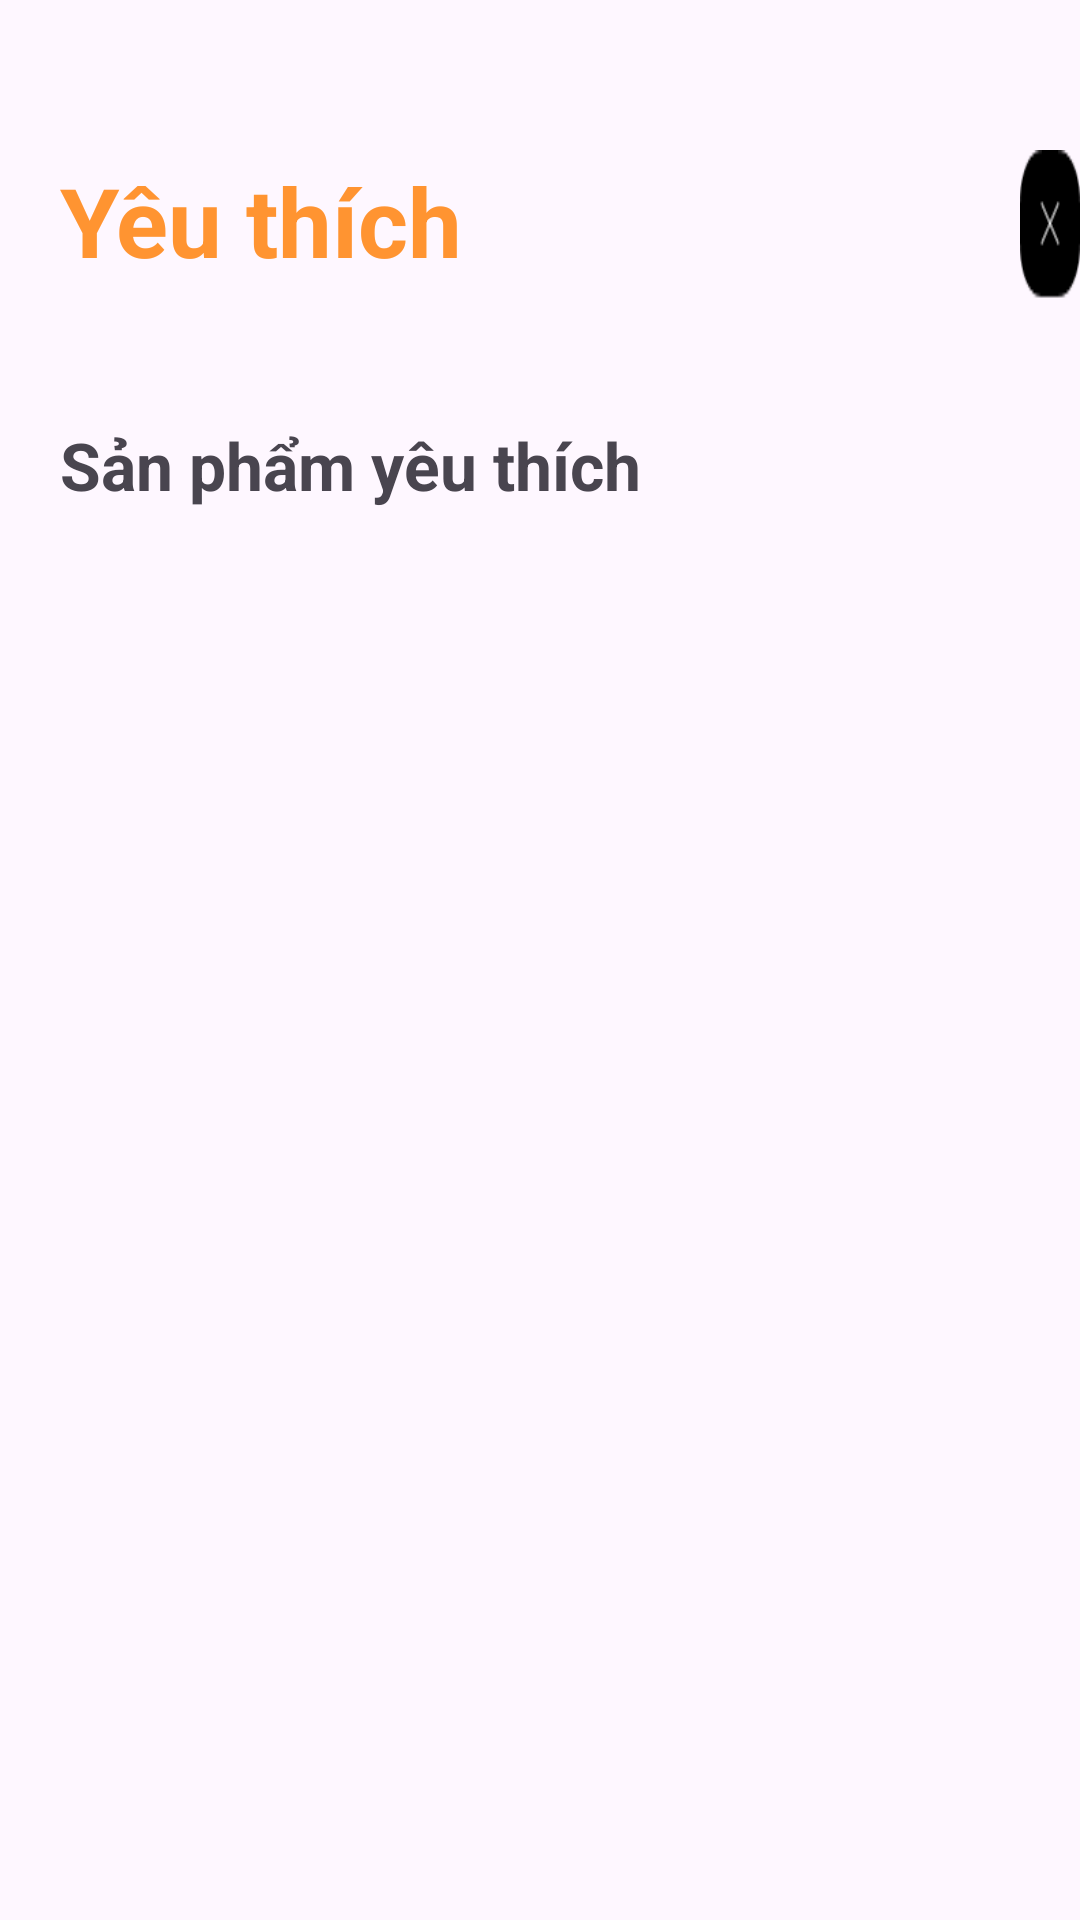

Locate icon controls on the screen. Image size 1080×1920, boxes as (x1, y1, x2, y2).
close: (1020, 150, 1080, 298)
